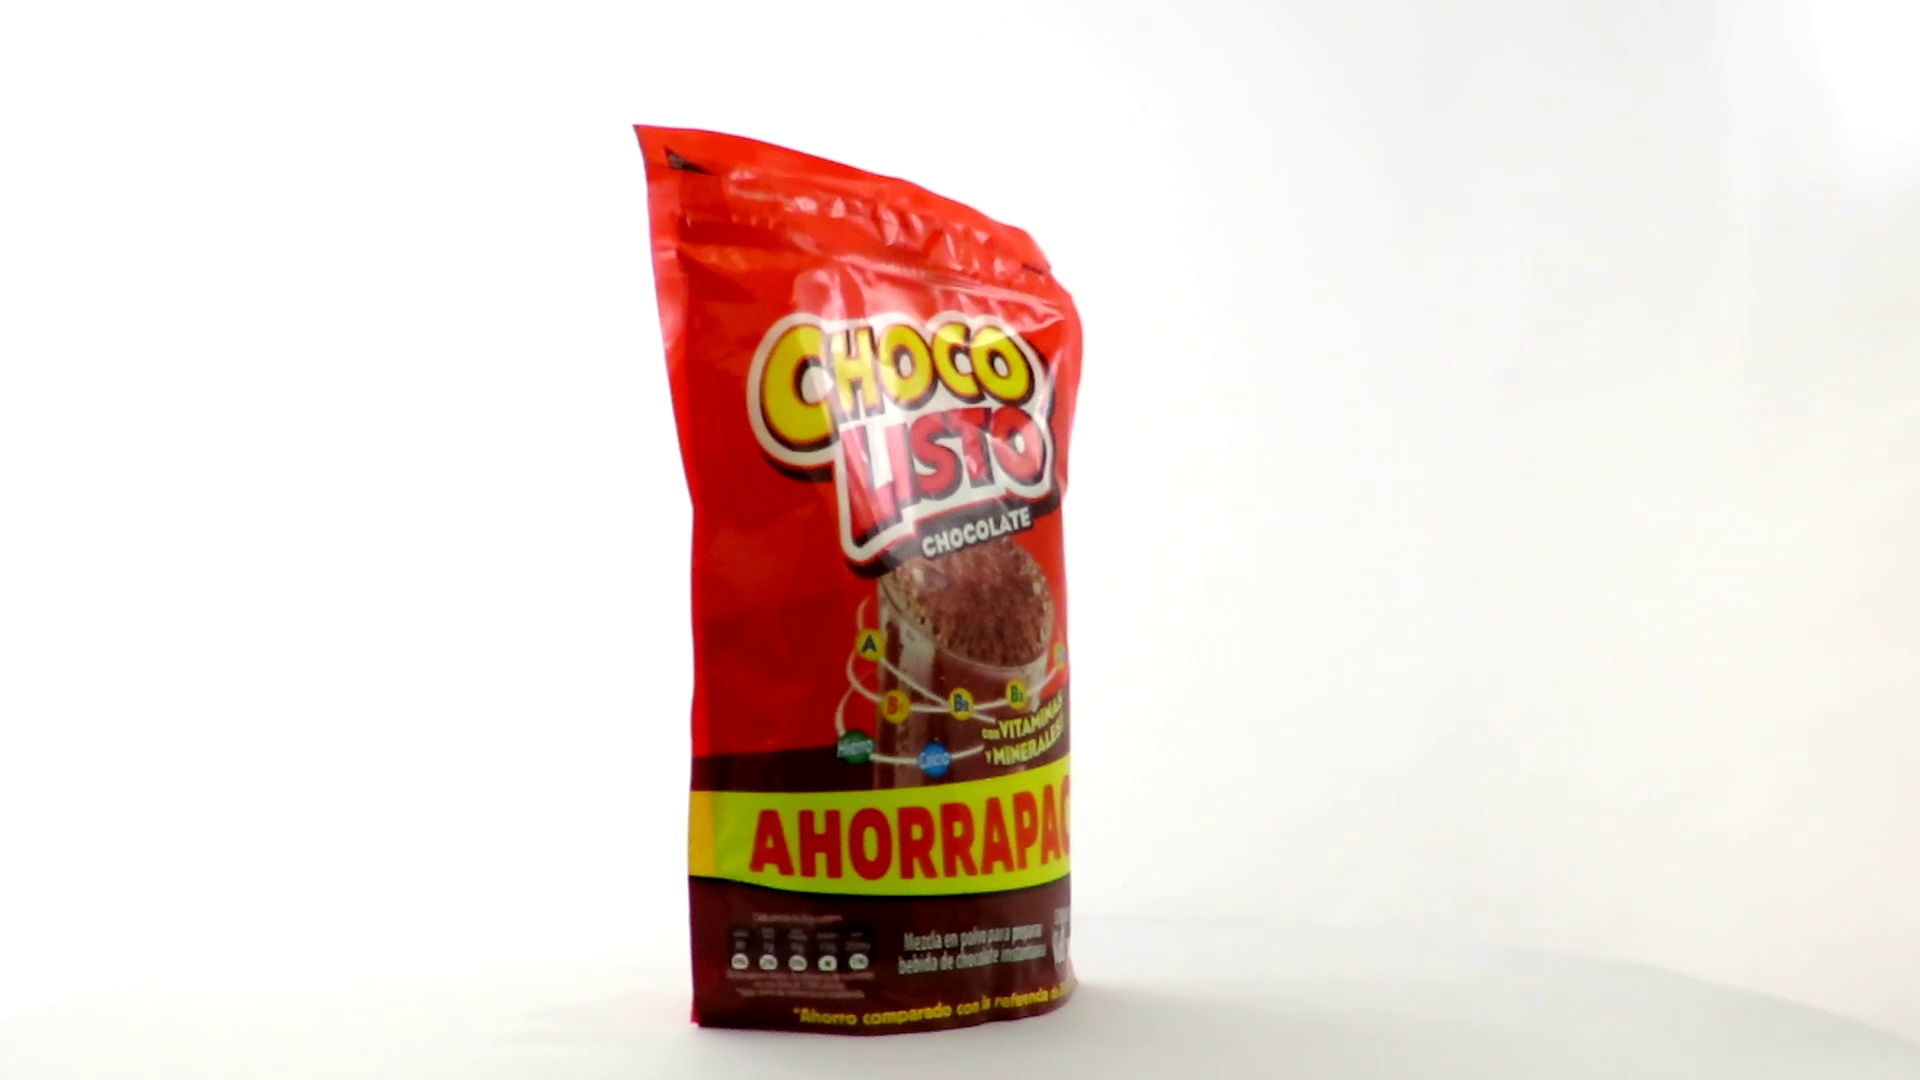COL0170103DYP36000: (626, 119, 1092, 1043)
